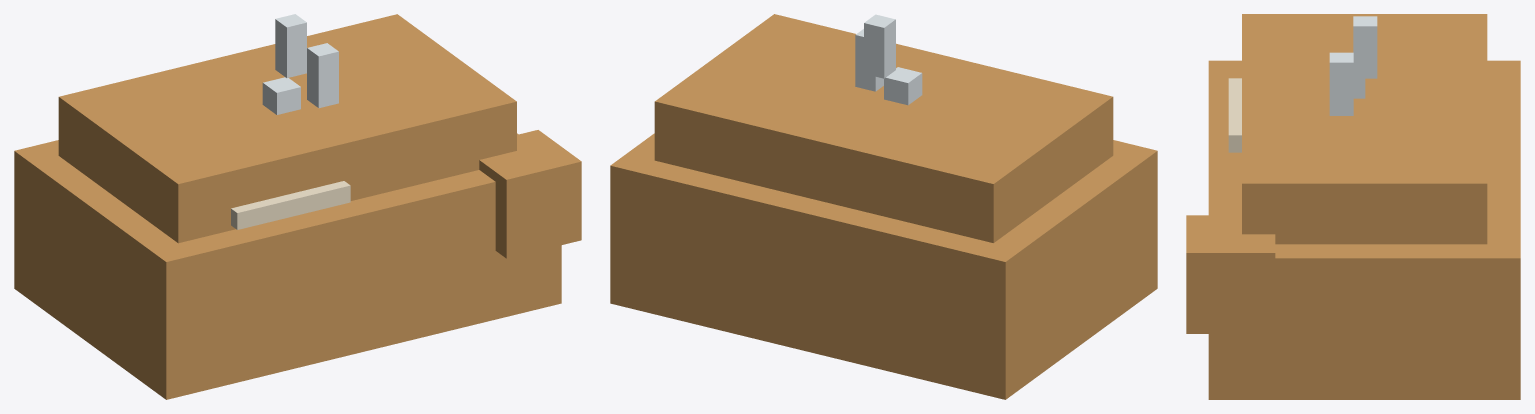
The model's file is product_glazed_fillet.glb.
3 renders of one model, left to right at view 1: azimuth 30°, elevation 25°; view 2: azimuth 150°, elevation 25°; view 3: azimuth 270°, elevation 25°, orthographic. The views are drawn at different scales.
Parts seen in each view (by area): view 1: ProductArt_body, ProductArt_steam, ProductArt_label; view 2: ProductArt_body, ProductArt_steam; view 3: ProductArt_body, ProductArt_steam, ProductArt_label.
Boxes of the visible parts, x1,y1,x2,y2 form: ProductArt_body: (14,14,581,399); ProductArt_steam: (262,14,338,114); ProductArt_label: (231,181,350,229); ProductArt_body: (610,14,1157,399); ProductArt_steam: (855,14,922,105); ProductArt_body: (1186,14,1520,399); ProductArt_steam: (1329,16,1377,115); ProductArt_label: (1228,78,1241,152).
Size of the model in its own units: 0.24 by 0.1554 by 0.1674.
